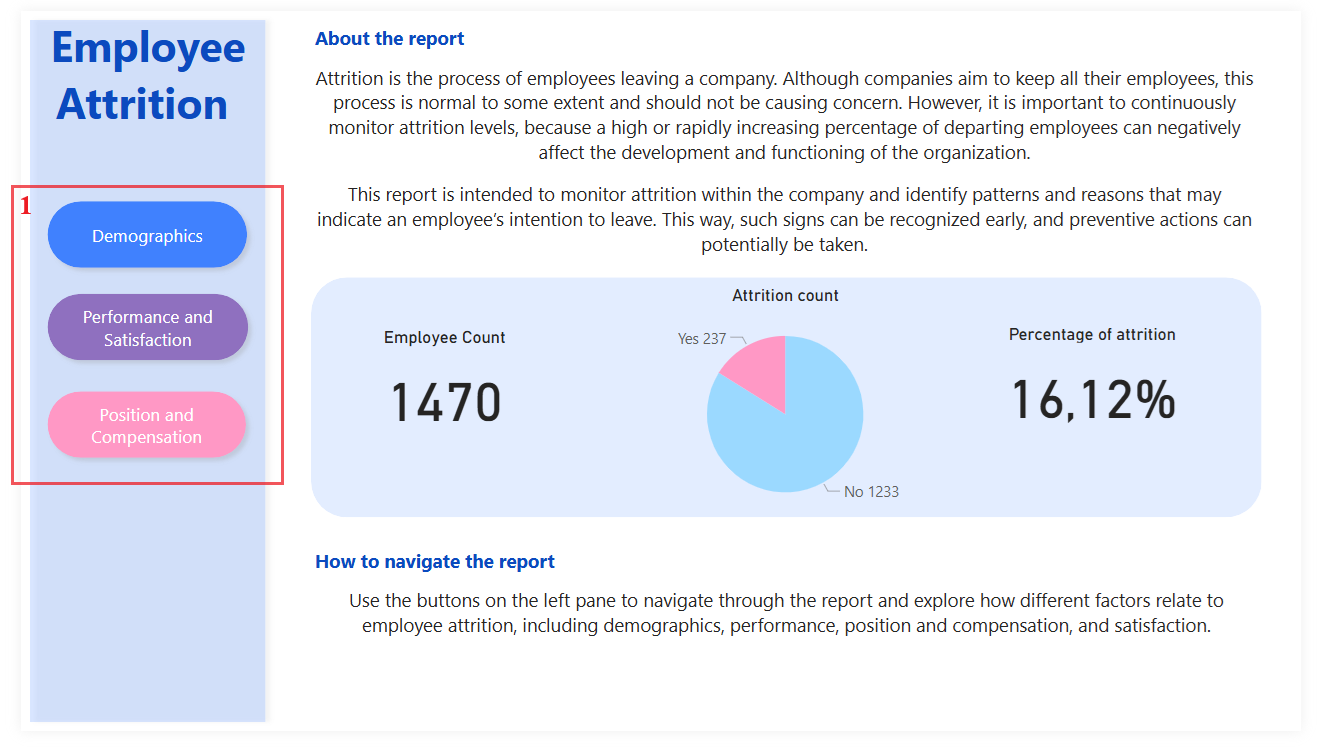

The page's visual inventory and layout, read from the dashboard file:
{"tool":"powerbi","page":{"name":"Employee Attrition","canvas":[1280,720],"ordinal":0},"visuals":[{"type":"shape","box":[289.8,266.1,950.7,240.2],"z":0},{"type":"shape","title":"shapeRectangleLeftBackground","box":[0,0,253.3,720],"z":1000},{"type":"textbox","title":"txtEmployeeAttrition","box":[0,0,253.6,129.4],"z":2000},{"type":"shape","title":"btnCompensationPage","box":[18,371,216.5,84.6],"z":4000},{"type":"shape","title":"btnPerformancePage","box":[16.9,274,218.8,84.6],"z":5000},{"type":"shape","title":"btnProfilePage","box":[18,181.6,217.7,84.6],"z":6000},{"type":"card","title":"Percentage of attrition","fields":{"Values":["Attrition.AttritionPercentage"]},"box":[967.5,312.5,207.5,117.5],"z":7000},{"type":"pieChart","title":"Attrition count","fields":{"Y":["CountNonNull(Attrition.Attrition)"],"Category":["Attrition.Attrition"]},"box":[600,273.8,328.8,240],"z":8000},{"type":"textbox","title":"txtDescriptionTop","box":[287.6,48.5,951.8,225.6],"z":9000},{"type":"textbox","title":"txtDescriptionBottom","box":[288.2,532.9,950,39.5],"z":10000},{"type":"textbox","title":"txtDescriptionBottom","box":[288.7,9,950.7,40.6],"z":11000},{"type":"textbox","title":"txtDescriptionTop","box":[289.8,571.8,950.7,73.3],"z":12000},{"type":"card","title":"Employee Count","fields":{"Values":["Employees.EmployeeCount"]},"box":[333.8,316.2,180,117.5],"z":13000}]}

Visuals, with their boxes in screenshot pixels (x1, y1, x2, y2), scaled from the page's 1280x720 canvas onto the 1321x754 screenshot:
shape: 299 279 1280 530
"shapeRectangleLeftBackground" shape: 0 0 261 753
"txtEmployeeAttrition" textbox: 0 0 262 136
"btnCompensationPage" shape: 19 389 242 477
"btnPerformancePage" shape: 17 287 243 376
"btnProfilePage" shape: 19 190 243 279
"Percentage of attrition" card: 998 327 1213 450
"Attrition count" pieChart: 619 287 959 538
"txtDescriptionTop" textbox: 297 51 1279 287
"txtDescriptionBottom" textbox: 297 558 1278 599
"txtDescriptionBottom" textbox: 298 9 1279 52
"txtDescriptionTop" textbox: 299 599 1280 676
"Employee Count" card: 344 331 530 454
